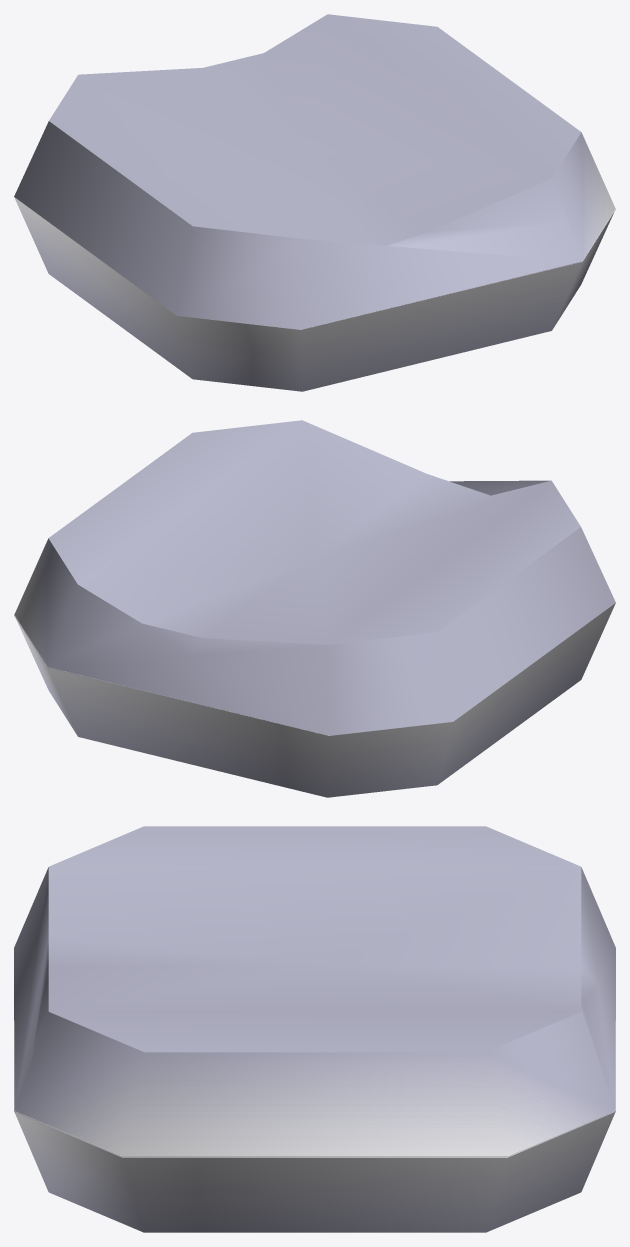
The model's file is StyrofoamContainerBroken.glb.
3 renders of one model, top to bottom at view 1: azimuth 30°, elevation 25°; view 2: azimuth 150°, elevation 25°; view 3: azimuth 270°, elevation 25°, orthographic. The views are drawn at different scales.
Visible parts, largest first — view 1: lid, styrofoam; view 2: lid, styrofoam; view 3: lid, styrofoam.
Boxes of the visible parts, bbox=[...] form: lid: bbox=[14, 14, 615, 329]; styrofoam: bbox=[14, 197, 615, 391]; lid: bbox=[14, 420, 615, 735]; styrofoam: bbox=[14, 603, 615, 797]; lid: bbox=[14, 826, 615, 1157]; styrofoam: bbox=[14, 1021, 615, 1232].
Size of the model in its own units: 0.7589 by 0.2525 by 0.7589.
Materials: 1 (1 with a texture image).
